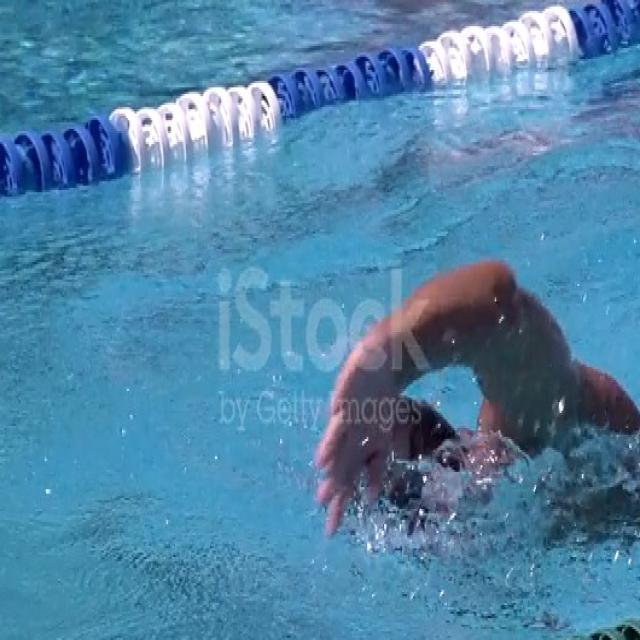Swimming: (314, 261, 640, 550)
